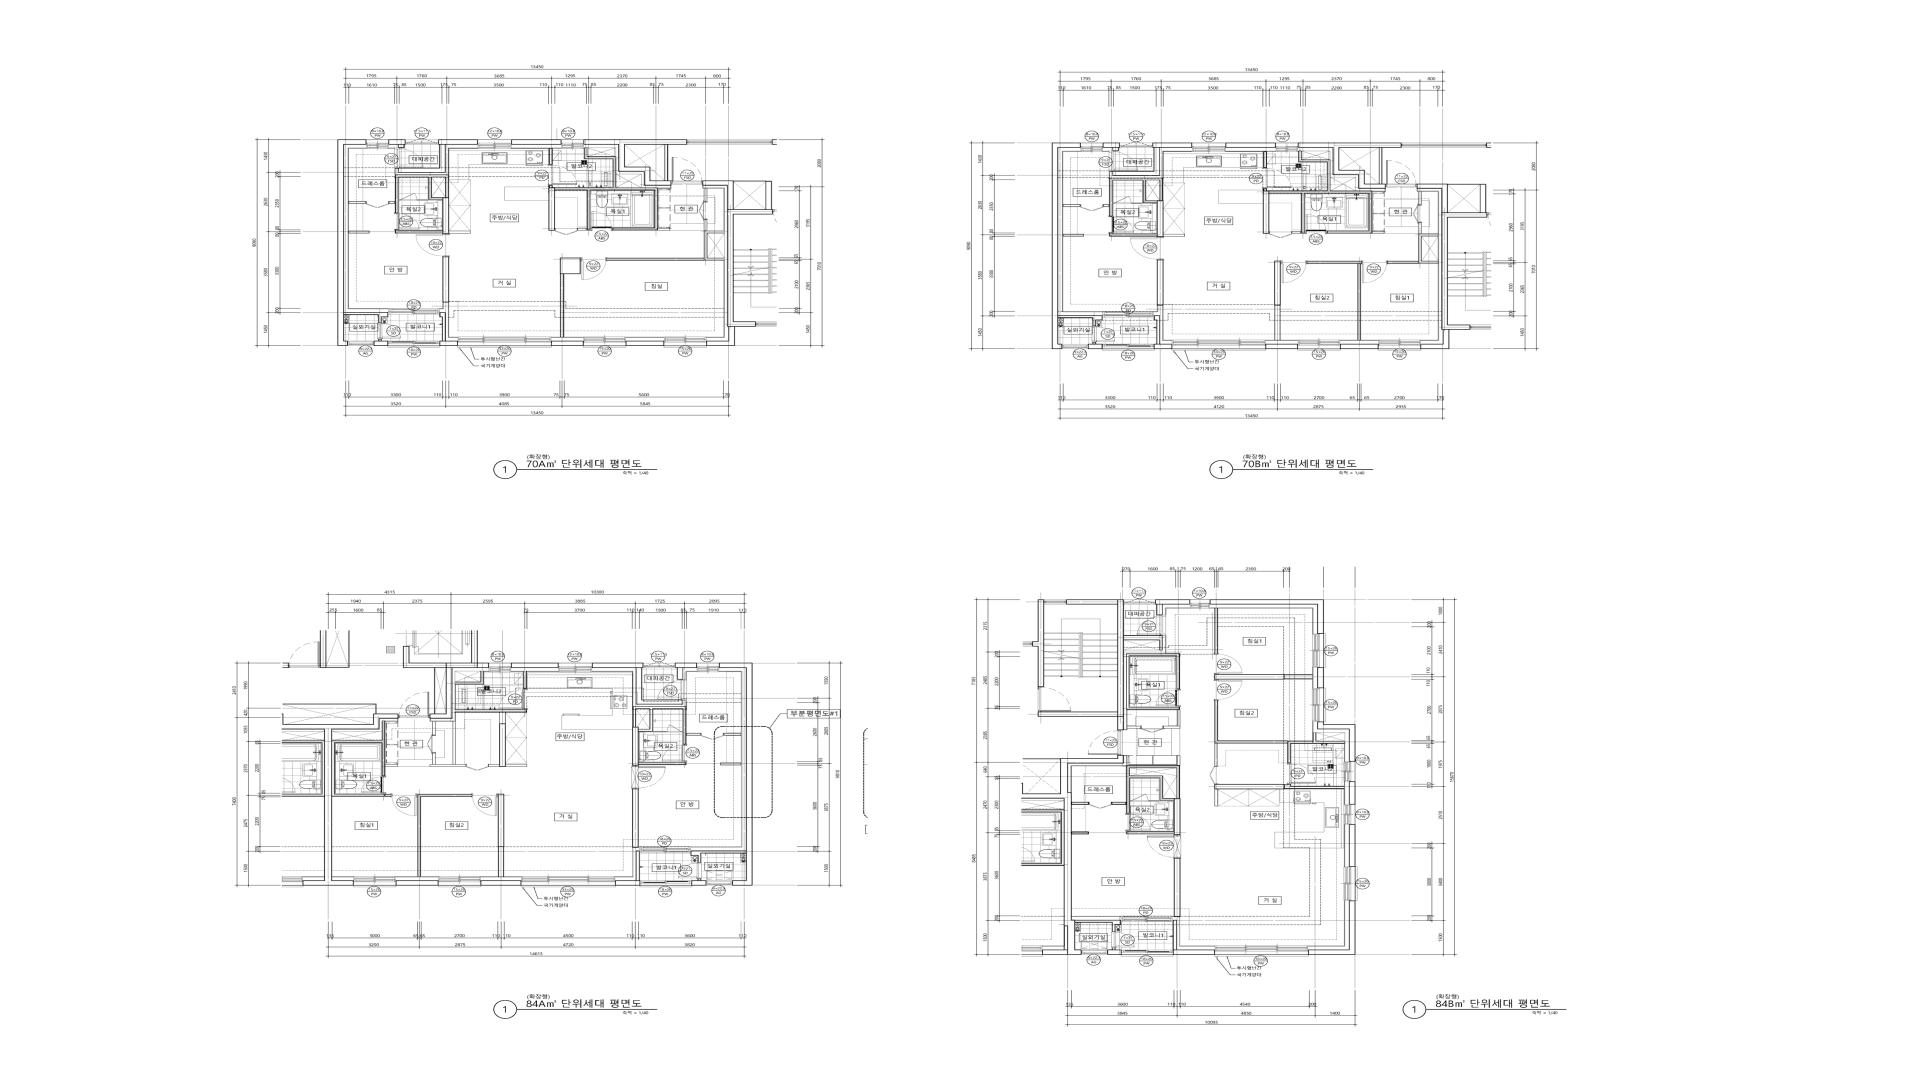door: (398, 692, 430, 719), (671, 157, 703, 183), (1038, 687, 1071, 712), (1088, 731, 1121, 756), (1386, 161, 1418, 186), (1147, 835, 1180, 858), (415, 233, 448, 257), (632, 766, 665, 789), (549, 165, 578, 186), (658, 679, 687, 700), (1137, 615, 1166, 636), (392, 794, 418, 816), (472, 794, 498, 816), (1280, 261, 1307, 284), (1263, 167, 1291, 189), (498, 688, 526, 709), (1215, 679, 1242, 700), (1288, 764, 1316, 785), (394, 148, 423, 167), (1109, 152, 1138, 171), (1362, 261, 1387, 284), (580, 258, 607, 280), (1215, 654, 1242, 674), (1126, 814, 1151, 832), (591, 211, 613, 231), (1304, 215, 1327, 233), (361, 777, 385, 794), (1109, 216, 1133, 233), (662, 745, 686, 762), (1156, 690, 1180, 707), (678, 862, 702, 878), (1112, 932, 1134, 948), (378, 323, 401, 339), (1093, 326, 1116, 342), (1270, 231, 1292, 239), (365, 202, 389, 208), (1080, 204, 1104, 211), (1089, 802, 1112, 808), (555, 228, 578, 235), (702, 733, 724, 740), (1141, 727, 1163, 733), (427, 735, 435, 753), (699, 202, 707, 220), (1414, 204, 1422, 223), (1130, 794, 1149, 802), (1209, 766, 1217, 785), (400, 193, 417, 200), (465, 765, 489, 770), (1113, 196, 1131, 203), (667, 725, 683, 732)
wall: (607, 186, 728, 342), (1038, 600, 1163, 731), (691, 663, 753, 886), (324, 713, 398, 886), (1060, 756, 1124, 955), (1416, 183, 1487, 349), (703, 181, 773, 345), (1052, 142, 1102, 349), (338, 140, 388, 345), (691, 667, 746, 851), (555, 145, 671, 231), (430, 669, 526, 766), (1263, 150, 1373, 233), (1215, 700, 1345, 764), (1058, 148, 1102, 315), (404, 646, 489, 719), (1298, 142, 1402, 189), (584, 140, 687, 186), (1112, 766, 1180, 835), (418, 794, 472, 877), (1307, 261, 1362, 340), (1124, 636, 1166, 731), (1209, 600, 1324, 634), (1418, 189, 1443, 344), (1298, 148, 1386, 191), (592, 667, 687, 707), (592, 663, 683, 704), (1211, 604, 1317, 634), (632, 707, 686, 766), (1109, 178, 1163, 236), (1126, 654, 1180, 709), (394, 140, 477, 175), (1113, 142, 1192, 175), (1308, 901, 1356, 955), (1109, 148, 1192, 178), (389, 175, 448, 214), (1068, 756, 1127, 793), (551, 274, 583, 342), (1308, 901, 1349, 949), (1317, 721, 1356, 762), (1312, 721, 1349, 762), (1172, 920, 1215, 955), (1172, 916, 1215, 949), (1266, 306, 1298, 344), (1033, 600, 1044, 687), (512, 145, 562, 165), (332, 719, 398, 732), (616, 851, 640, 886), (616, 847, 640, 881), (439, 302, 458, 342), (1154, 306, 1172, 344), (1215, 785, 1345, 790), (1154, 315, 1172, 349), (439, 313, 458, 345), (1155, 600, 1191, 615), (1215, 674, 1312, 679), (707, 233, 725, 258), (498, 794, 504, 877), (1422, 236, 1439, 261), (1174, 858, 1180, 918), (632, 789, 638, 848), (455, 671, 484, 684), (675, 663, 698, 679), (1163, 709, 1180, 729), (560, 257, 580, 274), (1156, 260, 1163, 306), (549, 186, 555, 231), (1274, 261, 1280, 306), (1146, 181, 1159, 203), (1163, 604, 1191, 615), (636, 709, 650, 729), (1349, 824, 1356, 866), (1225, 142, 1276, 148), (587, 148, 616, 157), (512, 140, 562, 145), (512, 663, 559, 669), (443, 257, 448, 302), (1344, 824, 1349, 866), (396, 881, 438, 886), (500, 724, 505, 766), (480, 881, 521, 886), (1225, 148, 1276, 152), (1340, 344, 1378, 349), (1072, 916, 1121, 920), (394, 229, 443, 233), (512, 667, 559, 671), (443, 198, 448, 233), (1215, 608, 1218, 654), (683, 667, 698, 679), (1266, 344, 1298, 349), (396, 877, 438, 881), (480, 877, 521, 881), (1102, 142, 1120, 152), (1340, 340, 1378, 344), (1349, 782, 1356, 804), (626, 342, 663, 345), (626, 338, 663, 342), (1317, 667, 1324, 688), (389, 140, 405, 148), (551, 342, 583, 345), (1344, 782, 1349, 804), (1088, 342, 1102, 349), (692, 878, 707, 886), (1312, 667, 1317, 688), (373, 339, 388, 345), (665, 145, 667, 181), (1379, 148, 1382, 183), (1108, 948, 1121, 955), (332, 877, 353, 881), (1387, 261, 1419, 264), (1215, 790, 1218, 807), (1263, 152, 1267, 167), (448, 231, 471, 233), (434, 669, 435, 713), (1215, 744, 1217, 766), (348, 231, 369, 233), (348, 202, 365, 204), (524, 671, 526, 688), (733, 181, 766, 182), (1102, 148, 1113, 152), (1448, 183, 1480, 185), (686, 733, 702, 736), (389, 145, 398, 149), (1373, 231, 1385, 233), (1163, 235, 1185, 236), (505, 765, 527, 766), (1178, 756, 1180, 766), (1292, 231, 1302, 233), (653, 731, 667, 732), (385, 765, 397, 766), (1149, 800, 1159, 802), (417, 199, 427, 200), (1104, 204, 1109, 207), (489, 765, 500, 766), (1131, 203, 1142, 203)
window: (521, 877, 616, 887), (1215, 945, 1308, 956), (1172, 340, 1266, 351), (458, 338, 551, 348), (1378, 340, 1422, 351), (663, 338, 707, 348), (583, 338, 626, 348), (1344, 866, 1357, 901), (438, 877, 480, 887), (1298, 340, 1340, 351), (353, 877, 396, 887), (1312, 688, 1325, 721), (1312, 634, 1325, 667), (388, 342, 440, 348), (640, 881, 692, 887), (1102, 311, 1154, 318), (1102, 344, 1154, 351), (558, 663, 592, 673), (477, 140, 512, 149), (1192, 142, 1225, 152), (1121, 951, 1174, 956), (1121, 916, 1172, 922), (640, 847, 691, 852), (388, 309, 439, 314), (1344, 804, 1356, 824), (1344, 762, 1356, 782), (1120, 141, 1153, 148), (405, 138, 438, 145), (489, 663, 512, 673), (367, 140, 389, 149), (1080, 142, 1102, 152), (562, 140, 584, 149), (698, 663, 719, 673), (1276, 142, 1298, 152), (1124, 599, 1155, 604), (644, 662, 675, 667), (1191, 600, 1211, 608), (1062, 344, 1088, 349), (1081, 951, 1108, 955), (707, 881, 732, 885), (348, 342, 373, 345), (1044, 600, 1067, 604)
